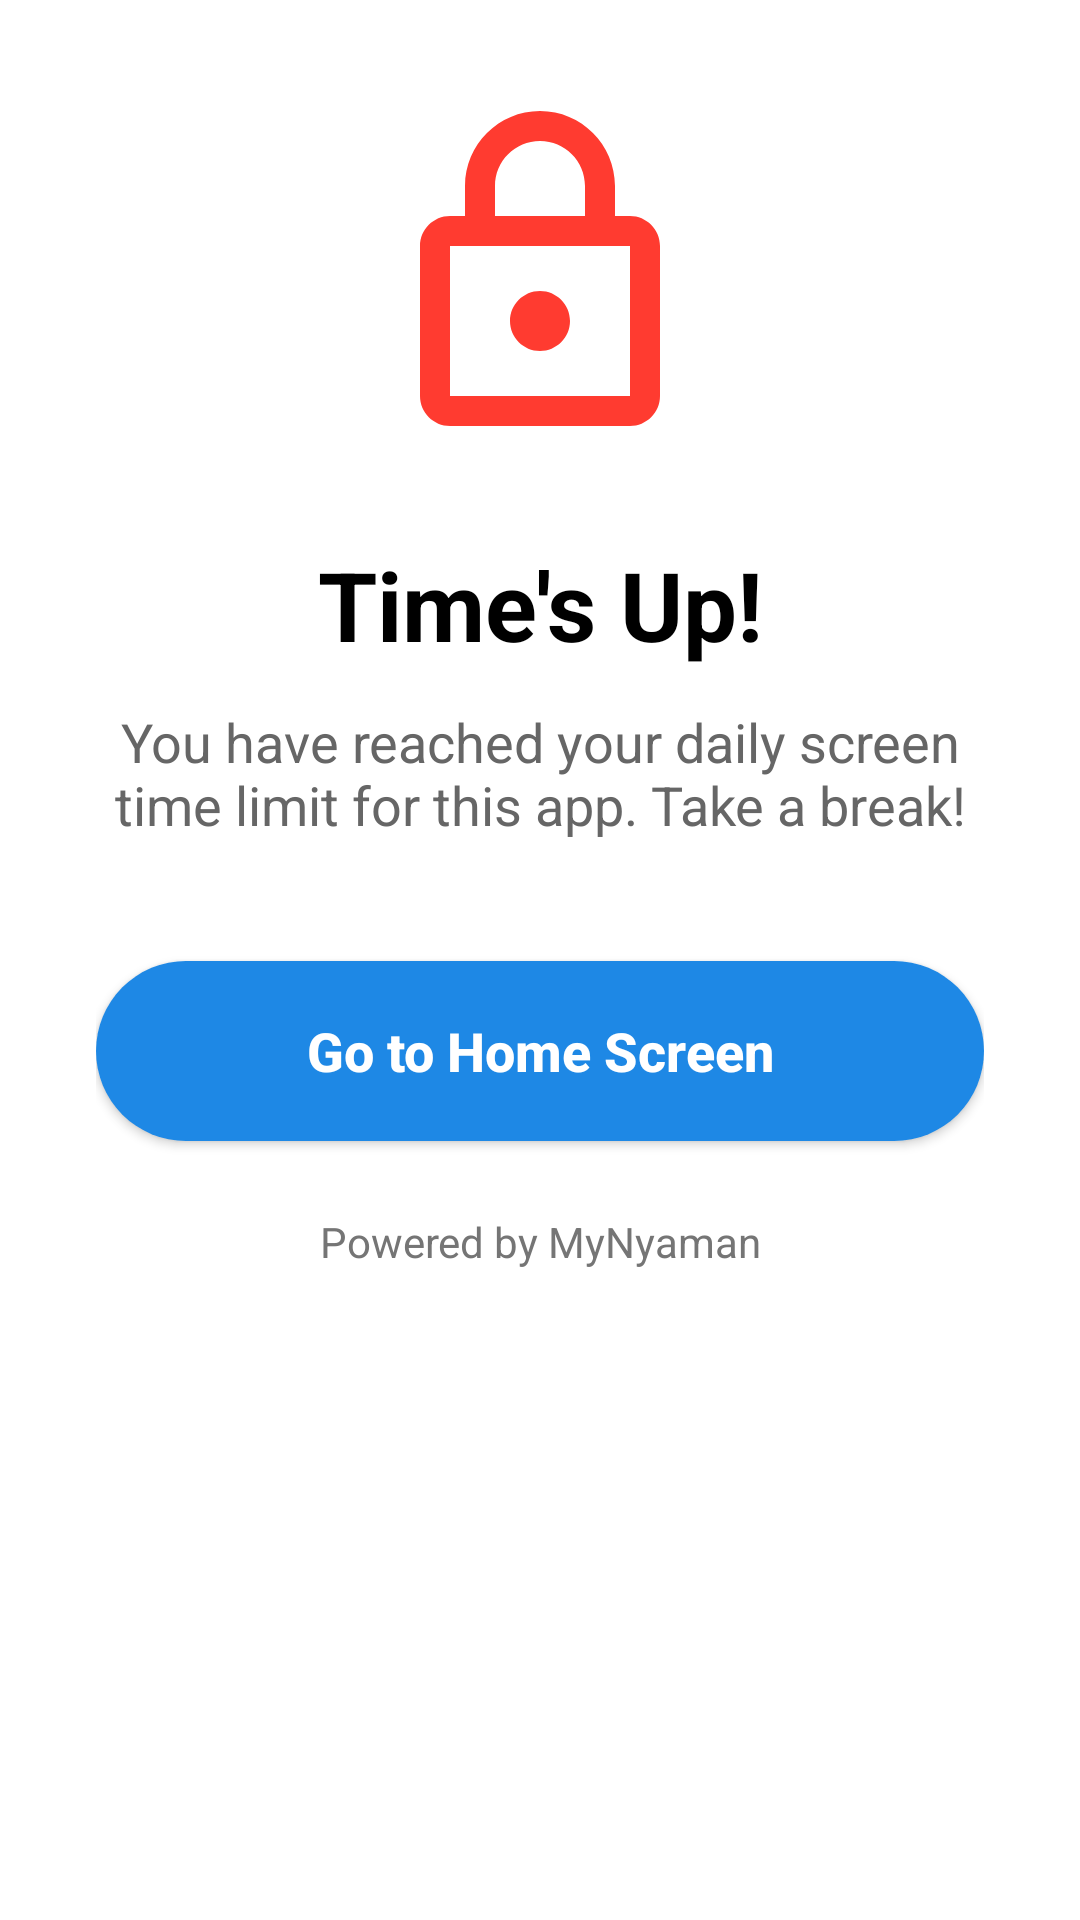

Where icons sit on this 1080px x 1920px app screen, as (x1, y1, x2, y2):
lock: (420, 111, 660, 426)
